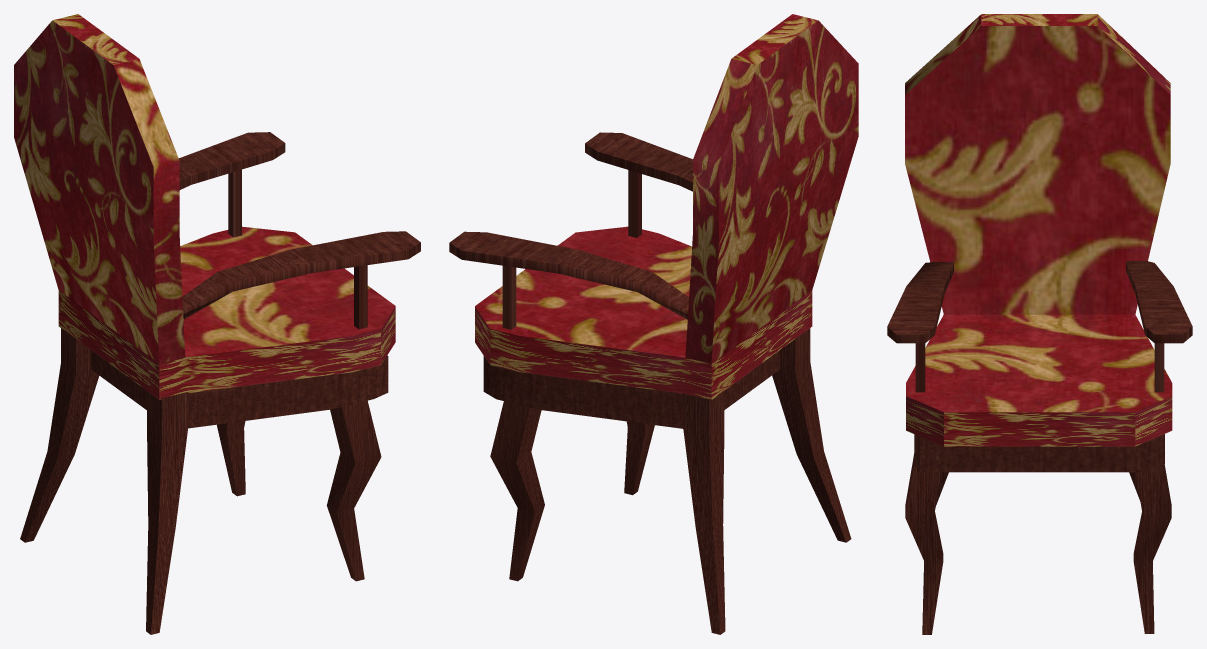
The model's file is chair.obj.
3 views of the same model, side by side, from view 1: azimuth 30°, elevation 25°; view 2: azimuth 150°, elevation 25°; view 3: azimuth 270°, elevation 25° (orthographic). The views are drawn at different scales.
Parts seen in each view (by area): view 1: br_chair1; view 2: br_chair1; view 3: br_chair1.
Part boxes in pixels (<box>): br_chair1: <box>14,14,420,634</box>; br_chair1: <box>449,14,858,634</box>; br_chair1: <box>887,14,1192,634</box>.
Bounding box in the file's own units: 30.31 × 60.06 × 32.06.
1 material, 1 textured.
